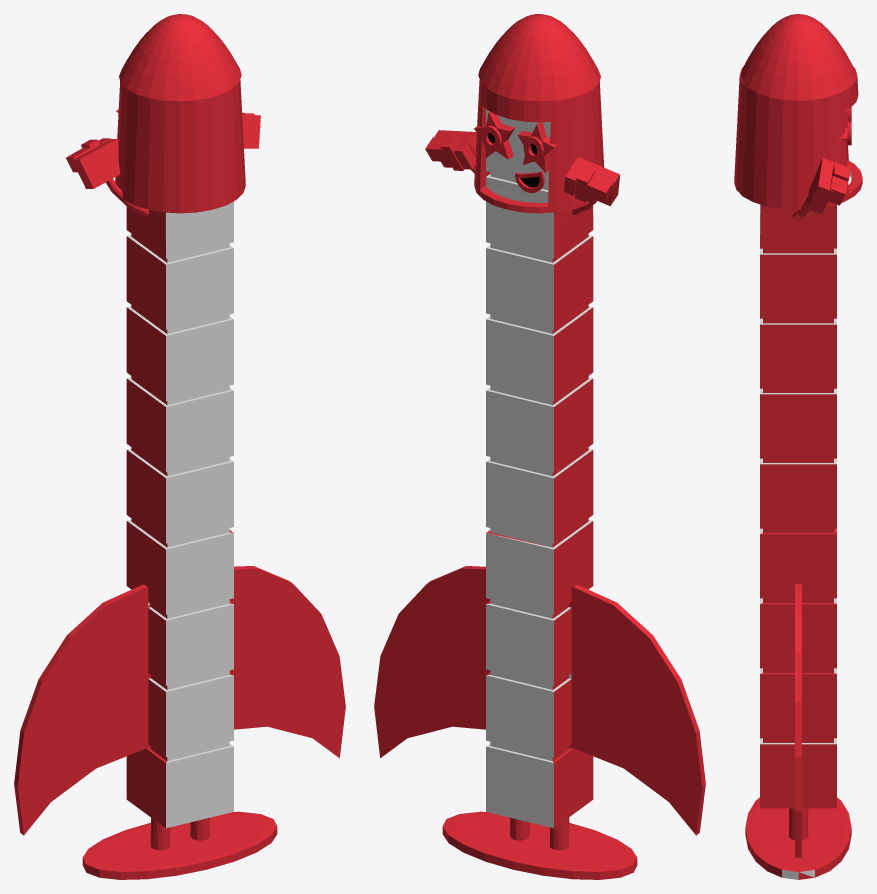
Rendered from NumberBlock10.fbx.
3 renders of one model, left to right at view 1: azimuth 30°, elevation 25°; view 2: azimuth 150°, elevation 25°; view 3: azimuth 270°, elevation 25°, orthographic.
Parts seen in each view (by area): view 1: NumberBlock10; view 2: NumberBlock10; view 3: NumberBlock10.
Part boxes in pixels (<box>): NumberBlock10: <box>14,14,345,879</box>; NumberBlock10: <box>374,14,705,879</box>; NumberBlock10: <box>734,14,862,879</box>.
Size of the model in its own units: 5787 by 14050 by 2000.
